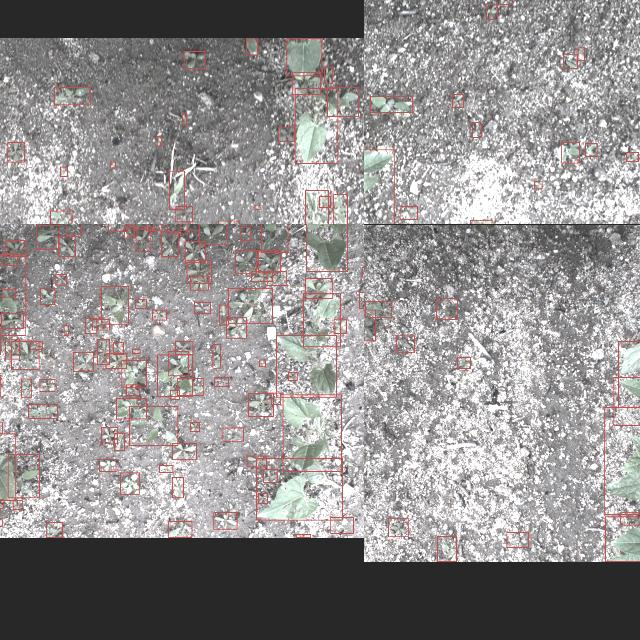crop: (256, 458, 342, 520), (282, 394, 340, 472), (604, 407, 640, 514), (275, 335, 335, 397), (294, 88, 338, 164), (0, 253, 25, 334), (302, 294, 340, 346), (305, 224, 346, 271), (604, 516, 640, 561), (617, 341, 640, 407), (286, 38, 322, 76), (613, 377, 640, 425), (0, 433, 15, 500)
weed: (129, 406, 177, 446), (227, 288, 271, 324), (156, 354, 192, 396), (7, 454, 38, 498), (100, 286, 128, 324), (327, 86, 358, 116), (10, 341, 38, 369), (304, 190, 327, 224), (261, 224, 287, 252), (120, 359, 146, 386), (370, 96, 412, 112), (54, 87, 90, 105), (292, 72, 320, 95), (168, 170, 184, 210), (115, 399, 145, 419), (304, 278, 332, 298), (199, 224, 227, 244), (248, 394, 272, 416), (234, 250, 256, 274), (186, 260, 210, 282), (36, 225, 58, 249), (168, 350, 188, 376), (436, 536, 456, 562), (258, 250, 280, 272), (160, 230, 178, 256), (177, 378, 203, 396), (184, 240, 204, 262), (436, 298, 456, 320), (333, 194, 347, 224), (365, 301, 391, 317), (560, 143, 580, 163), (73, 352, 93, 372), (226, 318, 246, 338), (388, 518, 408, 538), (214, 512, 236, 530), (28, 404, 56, 418), (168, 522, 192, 538), (171, 444, 195, 460), (120, 474, 138, 494), (183, 51, 204, 68), (330, 517, 352, 533), (0, 313, 22, 329), (506, 532, 528, 548), (135, 226, 149, 250), (7, 142, 23, 162), (58, 236, 74, 256), (5, 240, 25, 256), (364, 309, 374, 340), (49, 210, 71, 224), (174, 206, 192, 222), (97, 340, 109, 364), (396, 336, 414, 352), (105, 354, 125, 368), (266, 271, 286, 285), (4, 339, 18, 359), (278, 126, 294, 142), (46, 522, 62, 538), (101, 428, 117, 444), (190, 276, 208, 290), (174, 341, 192, 355), (222, 428, 242, 440), (620, 513, 640, 525), (332, 318, 346, 334), (40, 288, 54, 304), (399, 207, 416, 220), (246, 457, 266, 468), (250, 271, 272, 281), (218, 305, 228, 325), (172, 478, 182, 498), (563, 54, 577, 68), (2, 252, 16, 266), (193, 302, 209, 314), (212, 344, 220, 368), (99, 460, 115, 472), (166, 224, 187, 233), (21, 379, 31, 397), (92, 318, 108, 329), (114, 434, 124, 451), (262, 470, 276, 482), (84, 318, 96, 332), (40, 379, 54, 391), (246, 38, 256, 54), (486, 4, 496, 20), (125, 384, 138, 396), (65, 224, 80, 234), (584, 144, 596, 156), (472, 122, 481, 138), (452, 94, 462, 108), (240, 226, 250, 240), (152, 310, 166, 320), (107, 224, 127, 231), (1, 288, 15, 298), (456, 358, 470, 368), (318, 196, 329, 208), (324, 67, 332, 83), (214, 378, 228, 387), (625, 152, 637, 162), (134, 298, 146, 308), (270, 393, 280, 405), (130, 224, 154, 229), (124, 225, 134, 237), (112, 342, 122, 354), (179, 224, 198, 230), (55, 274, 65, 284), (12, 500, 22, 510), (358, 292, 364, 308), (29, 341, 41, 349), (145, 224, 160, 230), (470, 220, 491, 224), (258, 494, 266, 504), (170, 390, 178, 400), (190, 422, 198, 432), (577, 48, 583, 61), (160, 466, 172, 472), (533, 181, 541, 189), (288, 372, 296, 380), (217, 221, 238, 224), (60, 167, 66, 177), (62, 325, 68, 335), (296, 534, 310, 538), (131, 348, 139, 354), (182, 114, 186, 125), (259, 359, 265, 366), (156, 136, 160, 146), (254, 204, 260, 210), (361, 267, 364, 277), (110, 162, 114, 168)
